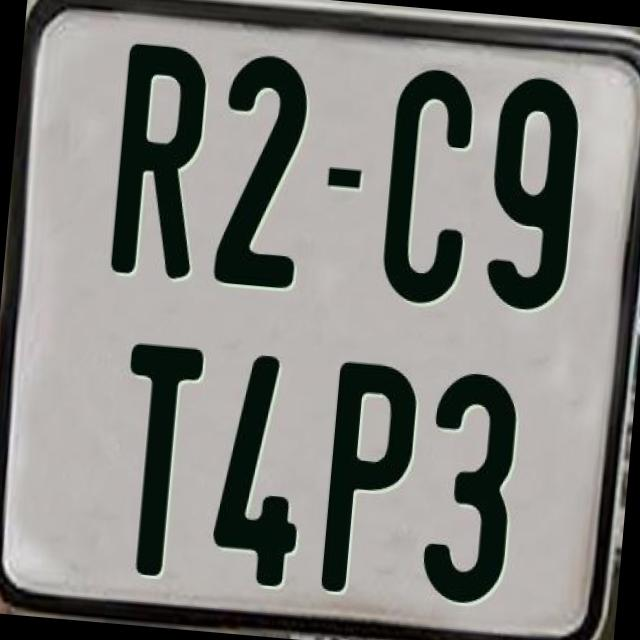2: (210, 50, 316, 297)
3: (414, 367, 516, 607)
4: (206, 347, 308, 584)
9: (477, 72, 583, 319)
C: (377, 64, 483, 304)
P: (320, 360, 424, 597)
R: (107, 41, 214, 286)
T: (111, 338, 204, 574)
